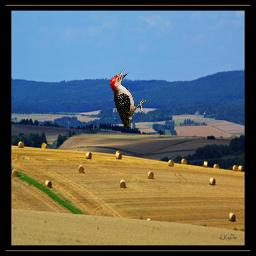Woodpecker: (110, 69, 149, 128)
